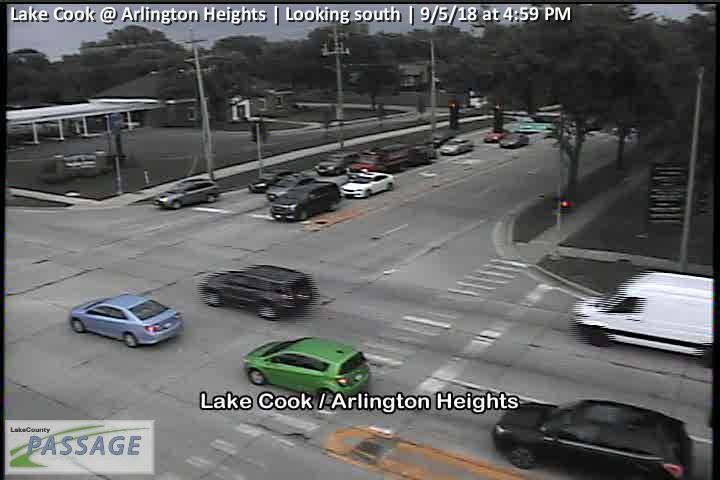SUV: (493, 401, 694, 480), (571, 271, 718, 367), (241, 337, 370, 405), (200, 265, 313, 320), (272, 181, 340, 221), (154, 177, 219, 209), (345, 151, 401, 174), (315, 151, 359, 175)
Sedan: (71, 293, 182, 347), (340, 171, 394, 199), (248, 169, 304, 192), (440, 138, 474, 155), (499, 133, 528, 148), (483, 130, 509, 142)
